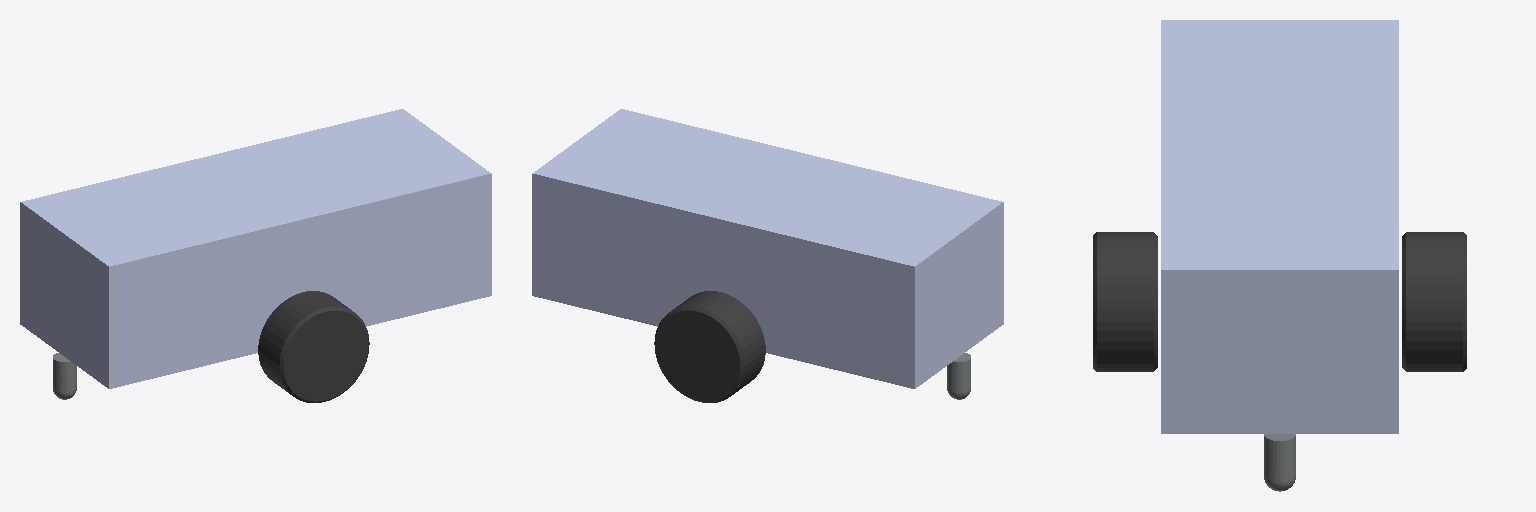
URDF robot description (sff01):
<?xml version="1.0" encoding="utf-8"?>
<!-- This URDF was automatically created by SolidWorks to URDF Exporter! Originally created by Stephen Brawner (brawner@gmail.com) 
     Commit Version: 1.6.0-4-g7f85cfe  Build Version: 1.6.7995.38578
     For more information, please see http://wiki.ros.org/sw_urdf_exporter -->
<robot
  name="sff01">
  <link
    name="base_link">
    <inertial>
      <origin
        xyz="-5.6541E-17 0.11105 -4.5234E-21"
        rpy="0 0 0" />
      <mass
        value="46.814" />
      <inertia
        ixx="0.52248"
        ixy="7.6927E-18"
        ixz="5.3521E-17"
        iyy="2.3819"
        iyz="-3.7853E-19"
        izz="2.2437" />
    </inertial>
    <visual>
      <origin
        xyz="0 0 0"
        rpy="0 0 0" />
      <geometry>
        <mesh
          filename="package://sff01/meshes/base_link.STL" />
      </geometry>
      <material
        name="">
        <color
          rgba="0.79216 0.81961 0.93333 1" />
      </material>
    </visual>
    <collision>
      <origin
        xyz="0 0 0"
        rpy="0 0 0" />
      <geometry>
        <mesh
          filename="package://sff01/meshes/base_link.STL" />
      </geometry>
    </collision>
  </link>
  <link
    name="Link_1">
    <inertial>
      <origin
        xyz="-5.5868E-19 0 0.04"
        rpy="0 0 0" />
      <mass
        value="1.8241" />
      <inertia
        ixx="0.0042719"
        ixy="1.0036E-35"
        ixz="-7.228E-20"
        iyy="0.0042719"
        iyz="-3.8204E-35"
        izz="0.0066228" />
    </inertial>
    <visual>
      <origin
        xyz="0 0 0"
        rpy="0 0 0" />
      <geometry>
        <mesh
          filename="package://sff01/meshes/Link_1.STL" />
      </geometry>
      <material
        name="">
        <color
          rgba="0.29804 0.29804 0.29804 1" />
      </material>
    </visual>
    <collision>
      <origin
        xyz="0 0 0"
        rpy="0 0 0" />
      <geometry>
        <mesh
          filename="package://sff01/meshes/Link_1.STL" />
      </geometry>
    </collision>
  </link>
  <joint
    name="joint0"
    type="continuous">
    <origin
      xyz="0 -0.15 0.01"
      rpy="1.5708 0 0" />
    <parent
      link="base_link" />
    <child
      link="Link_1" />
    <axis
      xyz="0 0 1" />
  </joint>
  <link
    name="Link_2">
    <inertial>
      <origin
        xyz="-1.5687E-18 -3.4694E-18 0.04"
        rpy="0 0 0" />
      <mass
        value="1.8241" />
      <inertia
        ixx="0.0042719"
        ixy="-9.6296E-35"
        ixz="-7.2245E-20"
        iyy="0.0042719"
        iyz="-4.0377E-35"
        izz="0.0066228" />
    </inertial>
    <visual>
      <origin
        xyz="0 0 0"
        rpy="0 0 0" />
      <geometry>
        <mesh
          filename="package://sff01/meshes/Link_2.STL" />
      </geometry>
      <material
        name="">
        <color
          rgba="0.29804 0.29804 0.29804 1" />
      </material>
    </visual>
    <collision>
      <origin
        xyz="0 0 0"
        rpy="0 0 0" />
      <geometry>
        <mesh
          filename="package://sff01/meshes/Link_2.STL" />
      </geometry>
    </collision>
  </link>
  <joint
    name="joint_1"
    type="continuous">
    <origin
      xyz="0 0.15 0.01"
      rpy="1.5708 0 3.1416" />
    <parent
      link="base_link" />
    <child
      link="Link_2" />
    <axis
      xyz="0 0 1" />
  </joint>
  <link
    name="Link_3">
    <inertial>
      <origin
        xyz="5.5511E-17 6.9926E-23 0.034578"
        rpy="0 0 0" />
      <mass
        value="0.67469" />
      <inertia
        ixx="0.00033853"
        ixy="9.1306E-36"
        ixz="-2.2887E-21"
        iyy="0.00033853"
        iyz="-4.2229E-25"
        izz="0.00012971" />
    </inertial>
    <visual>
      <origin
        xyz="0 0 0"
        rpy="0 0 0" />
      <geometry>
        <mesh
          filename="package://sff01/meshes/Link_3.STL" />
      </geometry>
      <material
        name="">
        <color
          rgba="0.52941 0.54902 0.54902 1" />
      </material>
    </visual>
    <collision>
      <origin
        xyz="0 0 0"
        rpy="0 0 0" />
      <geometry>
        <mesh
          filename="package://sff01/meshes/Link_3.STL" />
      </geometry>
    </collision>
  </link>
  <joint
    name="joint_2"
    type="fixed">
    <origin
      xyz="-0.3625 0 0"
      rpy="-3.1416 0 0" />
    <parent
      link="base_link" />
    <child
      link="Link_3" />
    <axis
      xyz="0 0 0" />
  </joint>
  <link
    name="Link_4">
    <inertial>
      <origin
        xyz="-5.5511E-17 6.9926E-23 0.034578"
        rpy="0 0 0" />
      <mass
        value="0.67469" />
      <inertia
        ixx="0.00033853"
        ixy="9.1306E-36"
        ixz="-2.2887E-21"
        iyy="0.00033853"
        iyz="-4.2229E-25"
        izz="0.00012971" />
    </inertial>
    <visual>
      <origin
        xyz="0 0 0"
        rpy="0 0 0" />
      <geometry>
        <mesh
          filename="package://sff01/meshes/Link_4.STL" />
      </geometry>
      <material
        name="">
        <color
          rgba="0.52941 0.54902 0.54902 1" />
      </material>
    </visual>
    <collision>
      <origin
        xyz="0 0 0"
        rpy="0 0 0" />
      <geometry>
        <mesh
          filename="package://sff01/meshes/Link_4.STL" />
      </geometry>
    </collision>
  </link>
  <joint
    name="joint_3"
    type="fixed">
    <origin
      xyz="0.3625 0 0"
      rpy="-3.1416 0 0" />
    <parent
      link="base_link" />
    <child
      link="Link_4" />
    <axis
      xyz="0 0 0" />
  </joint>
</robot>

--- Render facts (derived) ---
3 views of the same robot in one strip: view 1: azimuth 30°, elevation 25°; view 2: azimuth 150°, elevation 25°; view 3: azimuth 270°, elevation 25° (orthographic).
Model sff01 with 5 links and 4 joints (2 continuous, 2 fixed), rooted at base_link, posed every joint at zero.
Visible links, largest first — view 1: base_link, Link_1, Link_3; view 2: base_link, Link_2, Link_3; view 3: base_link, Link_1, Link_2, Link_4.
Boxes of the visible links, left/top/right/bottom form: base_link: left=20, top=109, right=491, bottom=388; Link_1: left=258, top=291, right=369, bottom=402; Link_3: left=53, top=353, right=76, bottom=399; base_link: left=532, top=109, right=1003, bottom=388; Link_2: left=654, top=291, right=765, bottom=402; Link_3: left=947, top=353, right=970, bottom=399; base_link: left=1161, top=20, right=1398, bottom=433; Link_1: left=1093, top=232, right=1157, bottom=371; Link_2: left=1402, top=232, right=1466, bottom=371; Link_4: left=1264, top=434, right=1295, bottom=491.
Bounding box of the posed robot: 0.765 × 0.46 × 0.2975 m (x, y, z).
Meshes: 5 distinct files referenced, 5 mesh visuals loaded (5 binary STL).
